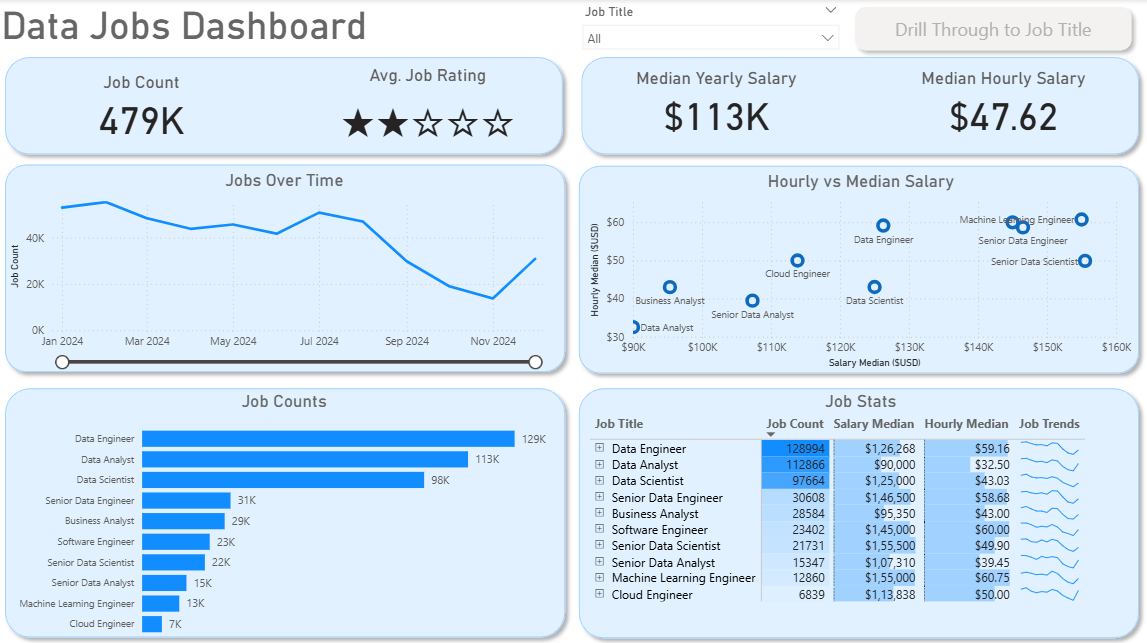

The dashboard page shown, as its layout file describes it:
{"tool":"powerbi","page":{"name":"Data Jobs Dashboard","canvas":[1280,720],"ordinal":0},"visuals":[{"type":"group","id":"g1","title":"Background","box":[0,56.3,1280,665],"z":0},{"type":"shape","box":[638.6,425.1,641.4,296.2],"z":0,"group":"g1"},{"type":"scatterChart","title":"Hourly vs Median Salary","fields":{"Y":["Median(job_postings_flat.salary_hour_avg)"],"X":["Median(job_postings_flat.salary_year_avg)"],"Series":["job_postings_flat.job_title_short"]},"box":[655,191.7,612.5,223.9],"z":1000},{"type":"shape","box":[0,425.1,641.4,295.2],"z":1000,"group":"g1"},{"type":"shape","box":[0,176.2,641.4,248.9],"z":2000,"group":"g1"},{"type":"pivotTable","title":"Job Stats","fields":{"Rows":["job_postings_flat.job_title_short","job_postings_flat.job_posted_date.Variation.Date Hierarchy.Quarter"],"Values":["CountNonNull(job_postings_flat.job_title_short)","Median(job_postings_flat.salary_year_avg)","Median(job_postings_flat.salary_hour_avg)","SparklineData(CountNonNull(job_postings_flat.job_title_short)_[job_postings_flat.job_posted_date.Variation.Date Hierarch"]},"box":[655,437.4,612.5,267.4],"z":2000},{"type":"cardVisual","fields":{"Data":["CountNonNull(job_postings_flat.job_title_short)"]},"box":[0.9,61.2,319.8,117.7],"z":3000},{"type":"shape","box":[638.6,177.1,641.4,248.9],"z":3000,"group":"g1"},{"type":"shape","box":[641.4,56.3,638.6,126.3],"z":4000,"group":"g1"},{"type":"cardVisual","fields":{"Data":["Median(job_postings_flat.salary_year_avg)"]},"box":[641.4,56.5,319.8,117.7],"z":4000},{"type":"shape","box":[0,56.3,638.6,126.3],"z":5000,"group":"g1"},{"type":"cardVisual","fields":{"Data":["Median(job_postings_flat.salary_hour_avg)"]},"box":[961.2,56.5,318.8,117.7],"z":5000},{"type":"actionButton","box":[946.6,0,325.5,66.1],"z":6000},{"type":"slicer","fields":{"Values":["job_postings_flat.job_title_short"]},"box":[641,0,305.6,79.3],"z":7000},{"type":"cardVisual","fields":{"Data":["job_postings_flat.Job Rating"]},"box":[320.7,61.2,319.8,117.7],"z":8000},{"type":"textbox","box":[0,0,495.7,77.1],"z":9000},{"type":"barChart","title":"Job Counts","fields":{"Category":["job_postings_flat.job_title_short"],"Y":["CountNonNull(job_postings_flat.job_title_short)"]},"box":[10.2,437.5,620.1,282.7],"z":10000},{"type":"lineChart","title":"Jobs Over Time","fields":{"Category":["job_postings_flat.job_posted_date.Variation.Date Hierarchy.Year","job_postings_flat.job_posted_date.Variation.Date Hierarchy.Quarter","job_postings_flat.job_posted_date.Variation.Date Hierarchy.Month","job_postings_flat.job_posted_date.Variation.Date Hierarchy.Day"],"Y":["CountNonNull(job_postings_flat.job_title_short)"]},"box":[9.8,191.2,620.5,224.4],"z":11000}]}

Visuals, with their boxes in screenshot pixels (x1, y1, x2, y2), scaled from the page's 1280x720 canvas onto the 1147x643 screenshot:
"Background" group: Rect(0, 50, 1146, 642)
shape: Rect(572, 380, 1146, 642)
"Hourly vs Median Salary" scatterChart: Rect(587, 171, 1136, 371)
shape: Rect(0, 380, 575, 642)
shape: Rect(0, 157, 575, 380)
"Job Stats" pivotTable: Rect(587, 391, 1136, 629)
cardVisual - CountNonNull(job_postings_flat.job_title_short): Rect(1, 55, 287, 160)
shape: Rect(572, 158, 1146, 380)
shape: Rect(575, 50, 1146, 163)
cardVisual - Median(job_postings_flat.salary_year_avg): Rect(575, 50, 861, 156)
shape: Rect(0, 50, 572, 163)
cardVisual - Median(job_postings_flat.salary_hour_avg): Rect(861, 50, 1146, 156)
actionButton: Rect(848, 0, 1140, 59)
slicer - job_postings_flat.job_title_short: Rect(574, 0, 848, 71)
cardVisual - job_postings_flat.Job Rating: Rect(287, 55, 574, 160)
textbox: Rect(0, 0, 444, 69)
"Job Counts" barChart: Rect(9, 391, 565, 642)
"Jobs Over Time" lineChart: Rect(9, 171, 565, 371)
